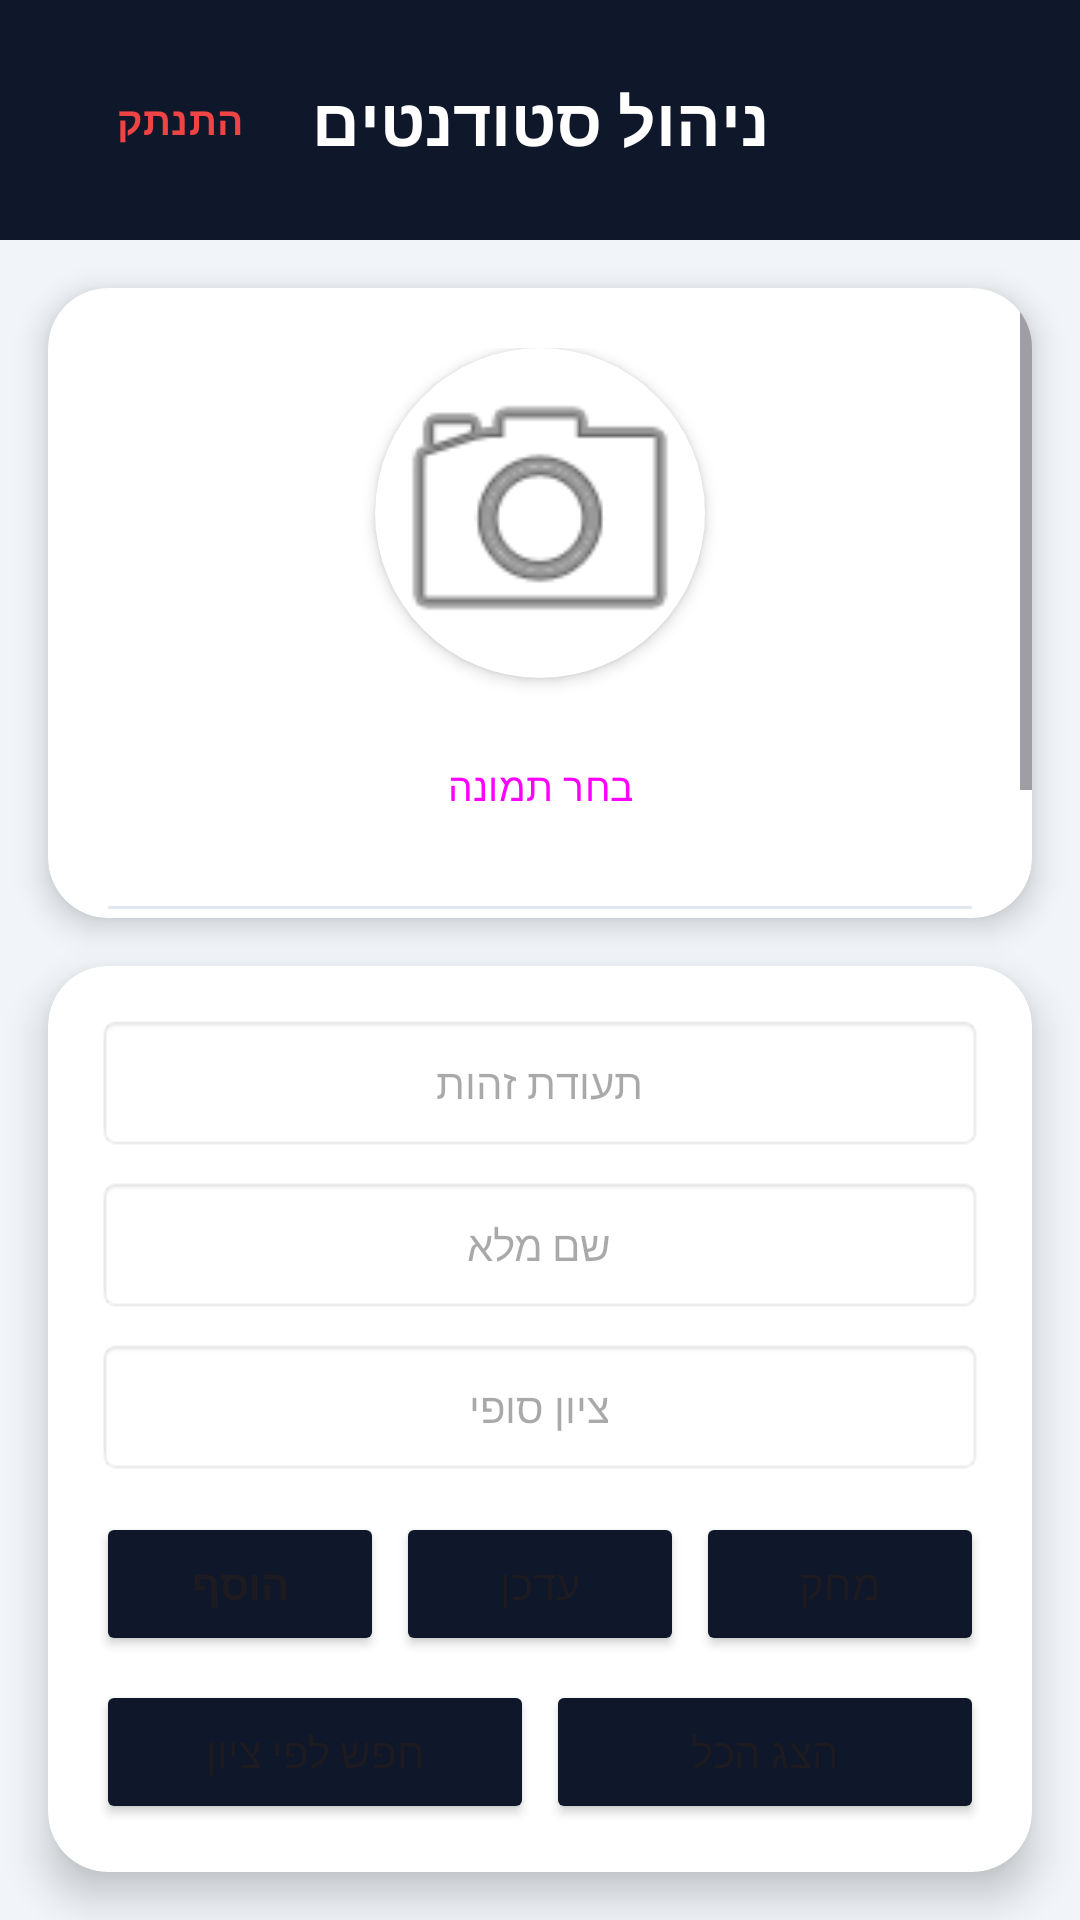

Where to tap for icons on this 1080 x 1920 app screen, as (x,y):
camera: (540,542)
